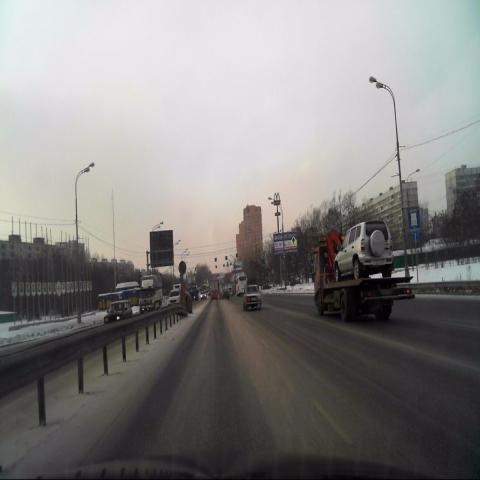4_1_1: (412, 230, 419, 243)
